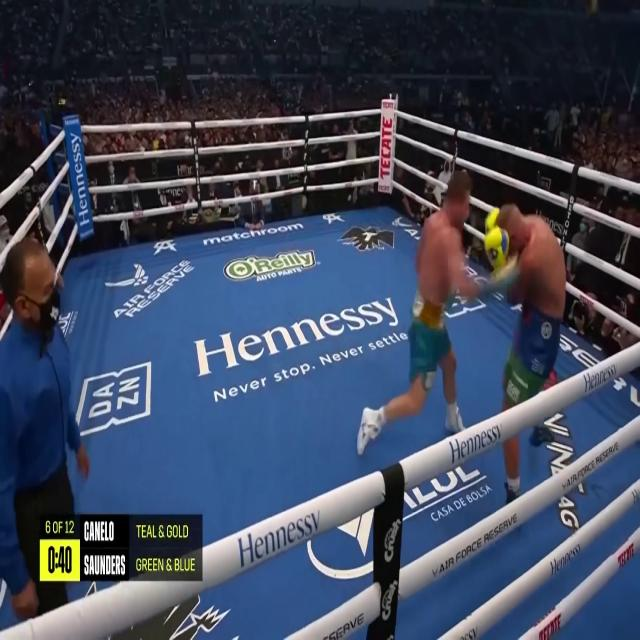boxer_1: (496, 205, 566, 318)
boxer_2: (419, 172, 471, 304)
gloves_1: (486, 208, 509, 274)
gloves_2: (478, 261, 519, 296), (445, 293, 456, 310)
